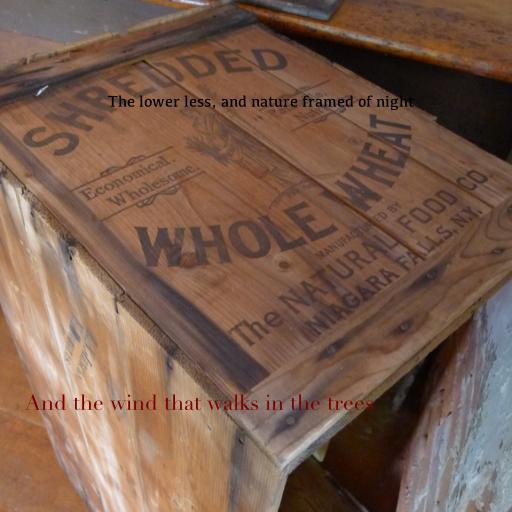Didot: (24, 394, 374, 411)
Kefa: (108, 95, 414, 111)
